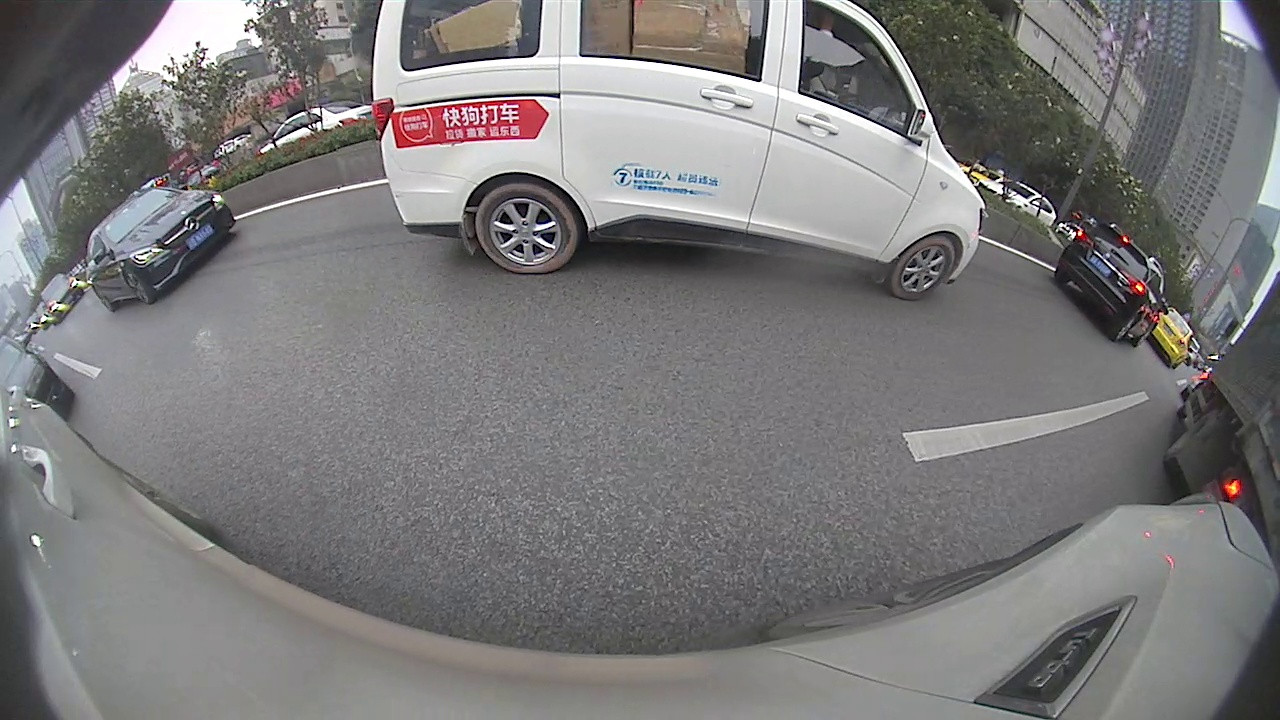car: (1013, 223, 1273, 404), (818, 163, 938, 221), (1242, 308, 1279, 388), (737, 158, 793, 190), (782, 160, 812, 193), (610, 160, 638, 183)
front: (1023, 243, 1062, 283), (820, 187, 836, 204)
rear: (1177, 331, 1217, 387), (865, 194, 883, 215)
